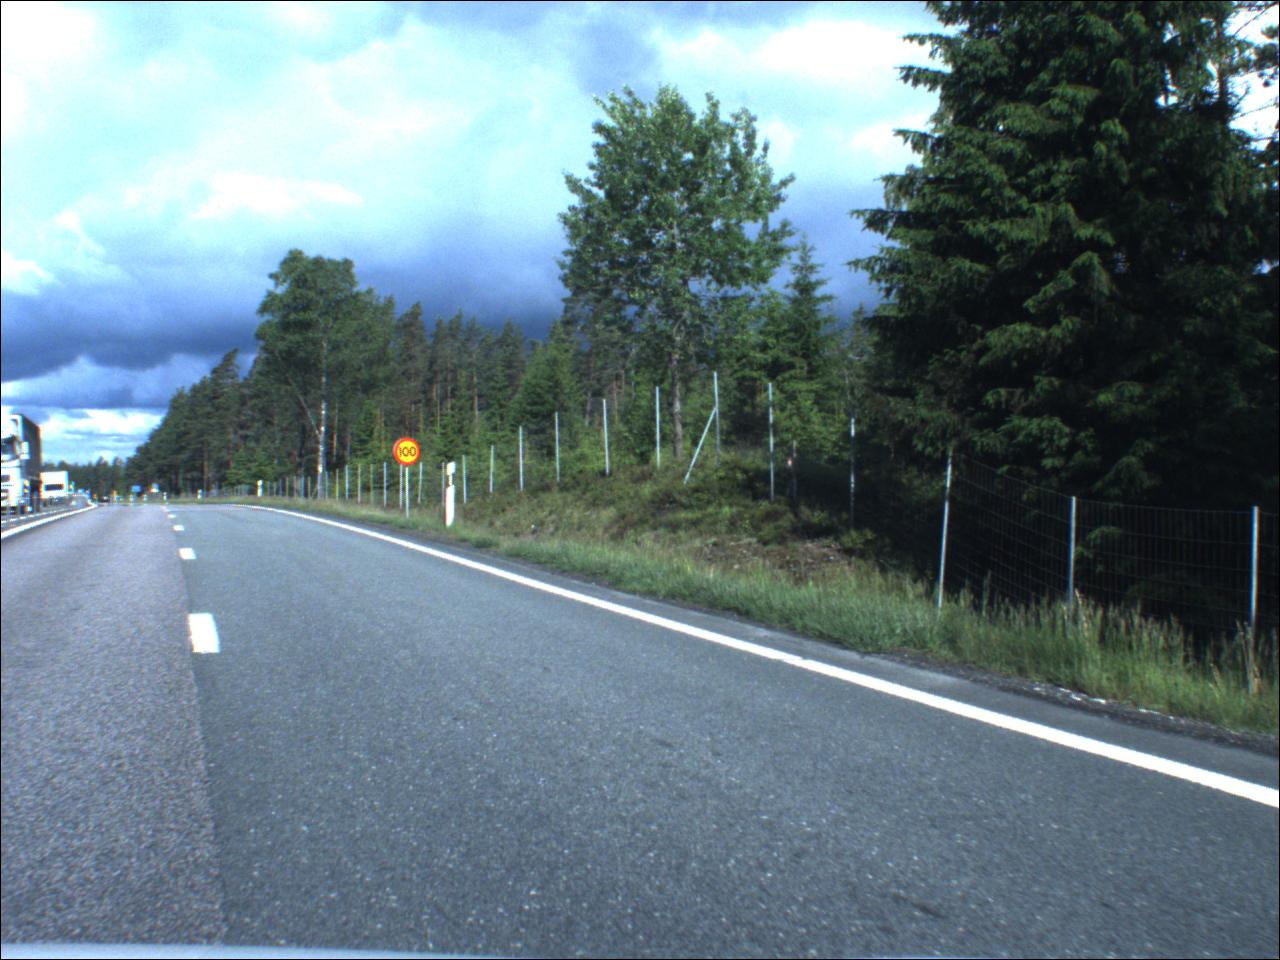100_SIGN: (395, 438, 423, 468)
